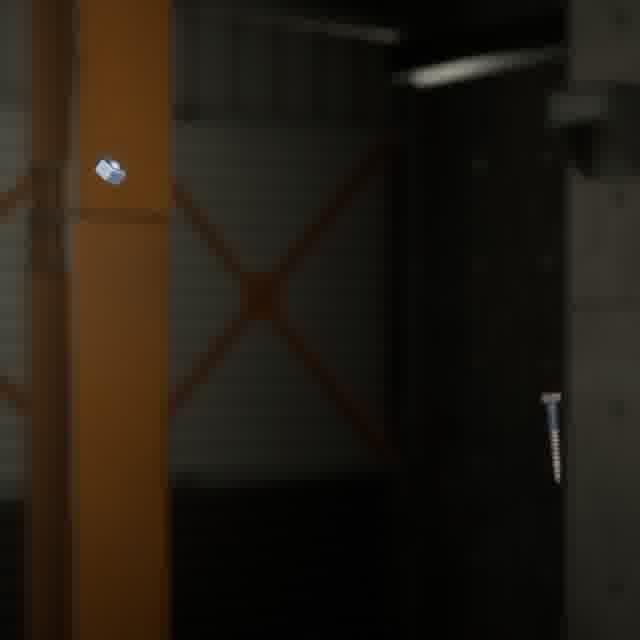bolt: (536, 387, 566, 488)
nut: (90, 150, 130, 189)
